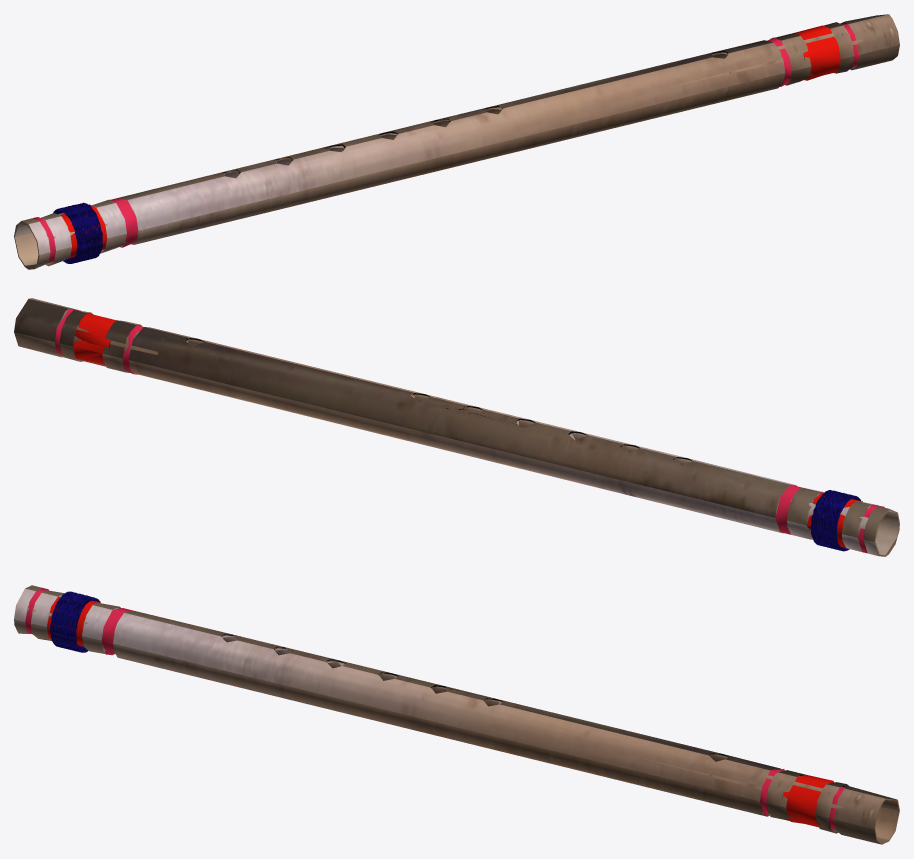
The model's file is realbansuri.glb.
The picture shows the model from 3 angles, top to bottom: view 1: azimuth 30°, elevation 25°; view 2: azimuth 150°, elevation 25°; view 3: azimuth 330°, elevation 25°; orthographic projection.
Parts seen in each view (by area): view 1: Basuri_0; view 2: Basuri_0; view 3: Basuri_0.
Boxes of the visible parts, box(x1,y1,x2,y2) form: Basuri_0: box(14, 14, 899, 269); Basuri_0: box(14, 298, 899, 556); Basuri_0: box(14, 585, 899, 844).
Bounding box in the file's own units: 0.6 × 0.0344 × 0.0344.
Materials: 5 (1 with a texture image).
